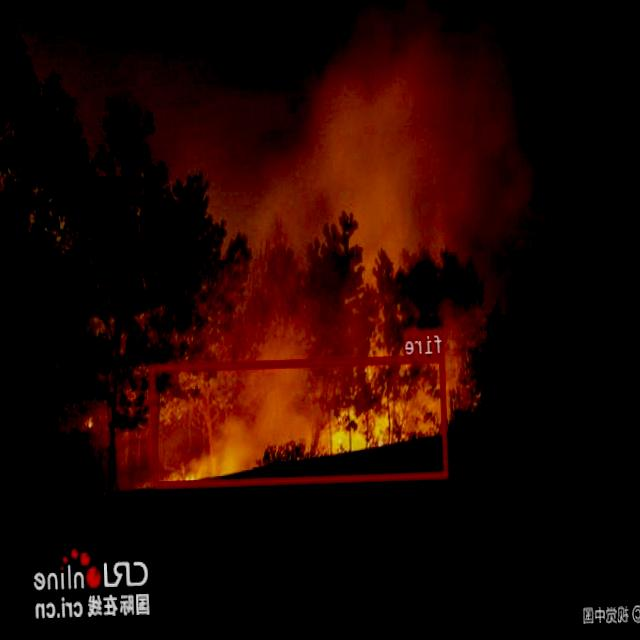fire: (150, 353, 448, 488)
